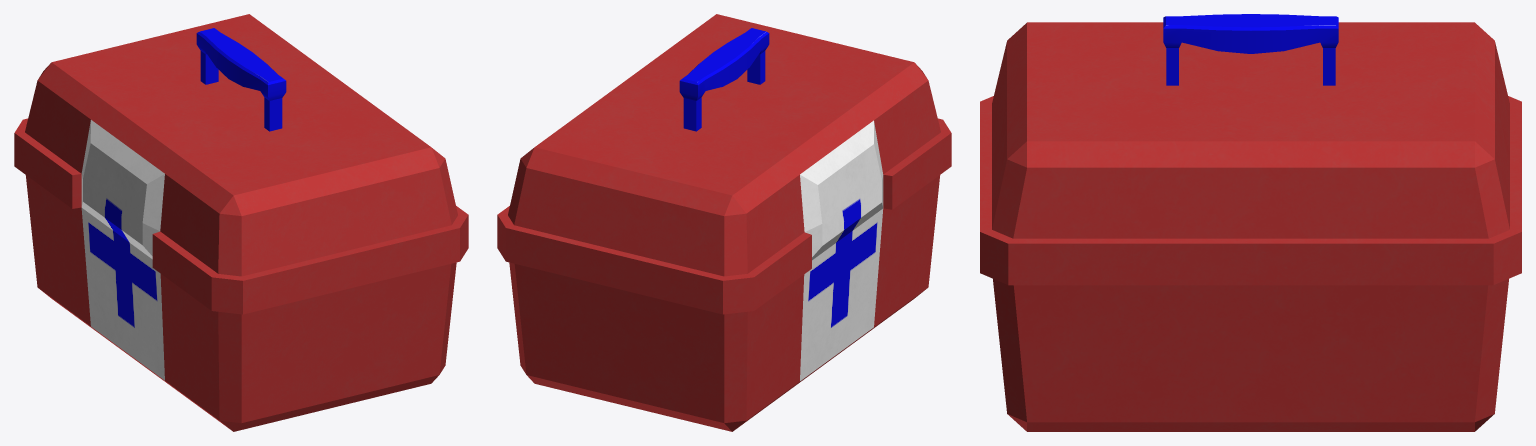
Rendered from medkit.fbx.
The picture shows the model from 3 angles, left to right: view 1: azimuth 30°, elevation 25°; view 2: azimuth 150°, elevation 25°; view 3: azimuth 270°, elevation 25°; orthographic projection. The views are drawn at different scales.
Visible parts, largest first — view 1: pCube67; view 2: pCube67; view 3: pCube67.
Part boxes in pixels (left/top/right/bottom): pCube67: left=14, top=14, right=468, bottom=431; pCube67: left=497, top=14, right=951, bottom=431; pCube67: left=980, top=14, right=1521, bottom=431.
Size of the model in its own units: 0.2371 by 0.2526 by 0.3523.
